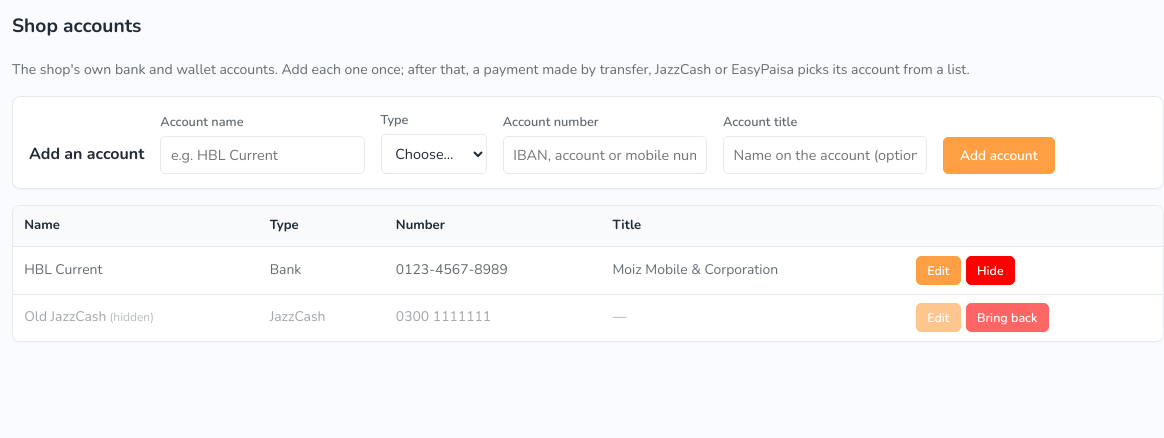
Scenario: Shop accounts › asks what kind of account it is, with nothing chosen in advance
The image size is (1164, 438).
Expected: the text "HBL Current" is shown, [13, 247, 258, 295]
Type "Meezan" into the field labelled "Account name".
click(262, 155); type("Meezan")  # box [160, 136, 364, 174]
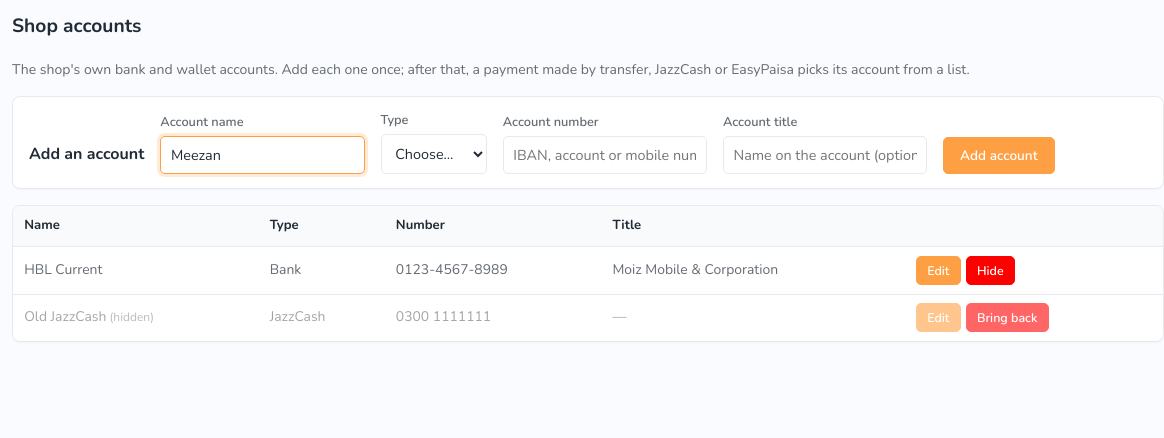
Click the button "Add account".
click(999, 155)  # box [943, 137, 1055, 174]
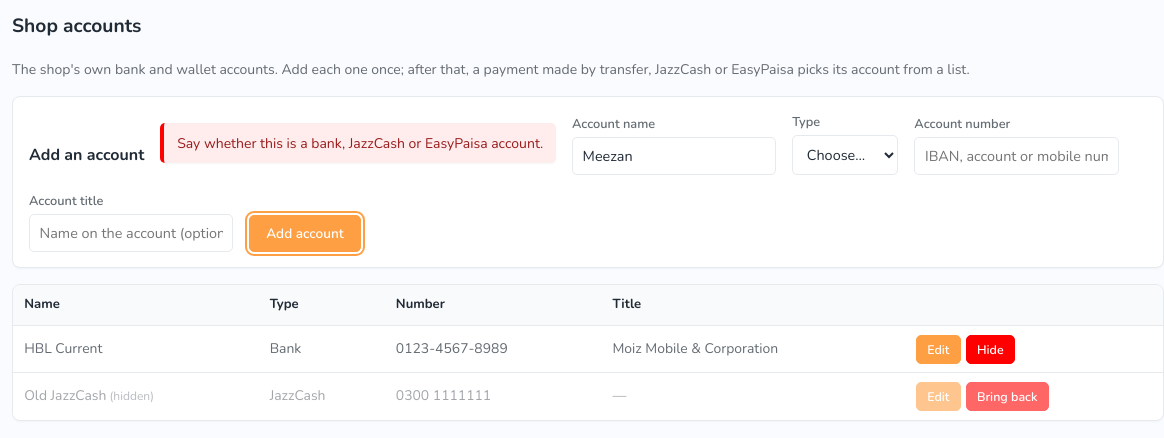
Now the message shows "bank, JazzCash or EasyPaisa", box [177, 134, 543, 153]
